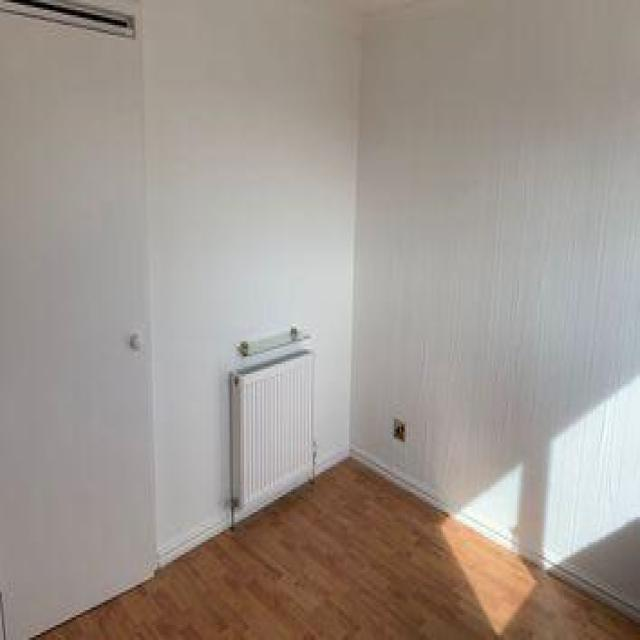Wall: (145, 1, 640, 610), (41, 460, 640, 639)
